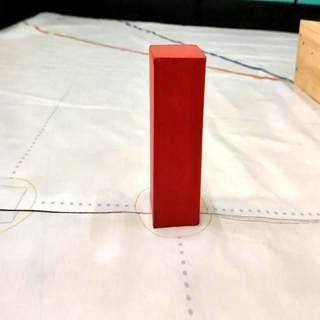redbox: (148, 45, 207, 227)
